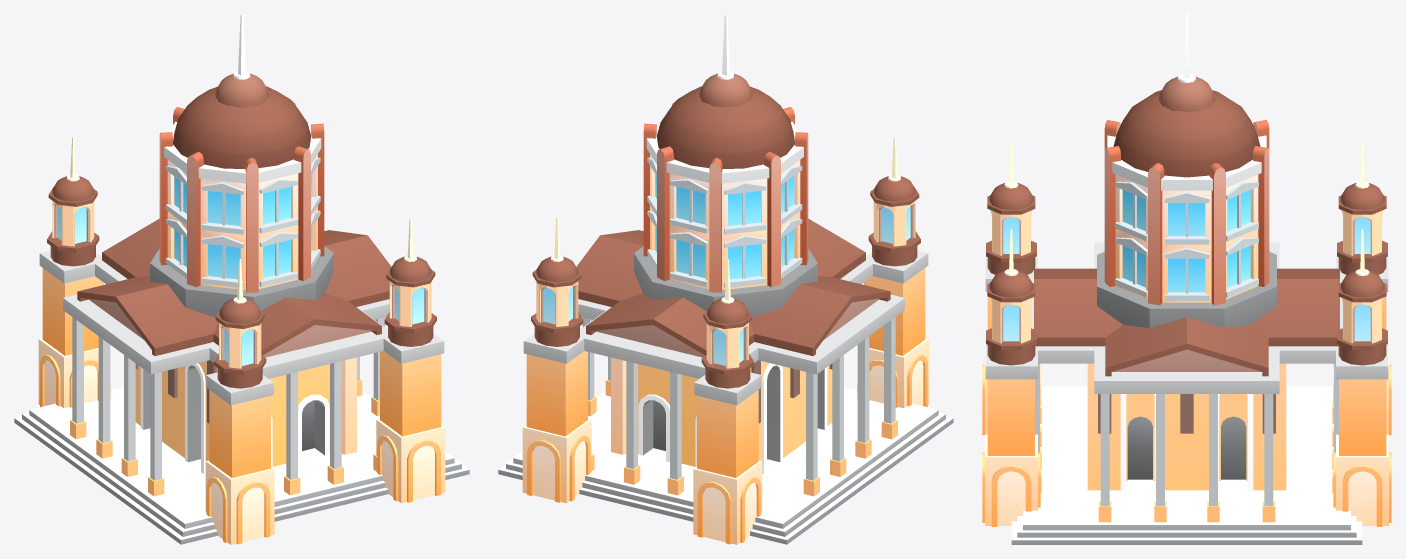
The model's file is Building_Temple_02.glb.
The picture shows the model from 3 angles, left to right: view 1: azimuth 30°, elevation 25°; view 2: azimuth 150°, elevation 25°; view 3: azimuth 270°, elevation 25°; orthographic projection. The views are drawn at different scales.
Visible parts, largest first — view 1: Building_Temple_02; view 2: Building_Temple_02; view 3: Building_Temple_02.
Part boxes in pixels (x1,y1,x2,y2): Building_Temple_02: (14,14,469,544); Building_Temple_02: (498,14,953,544); Building_Temple_02: (982,14,1391,544).
Size of the model in its own units: 14.81 by 21.28 by 17.29.
Materials: 1 (1 with a texture image).
